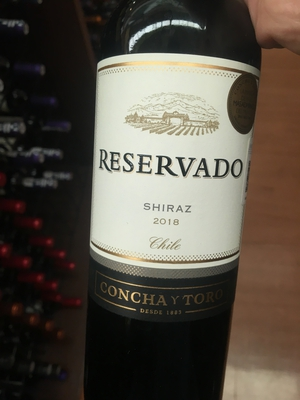reservado shiraz: (81, 38, 254, 400)
